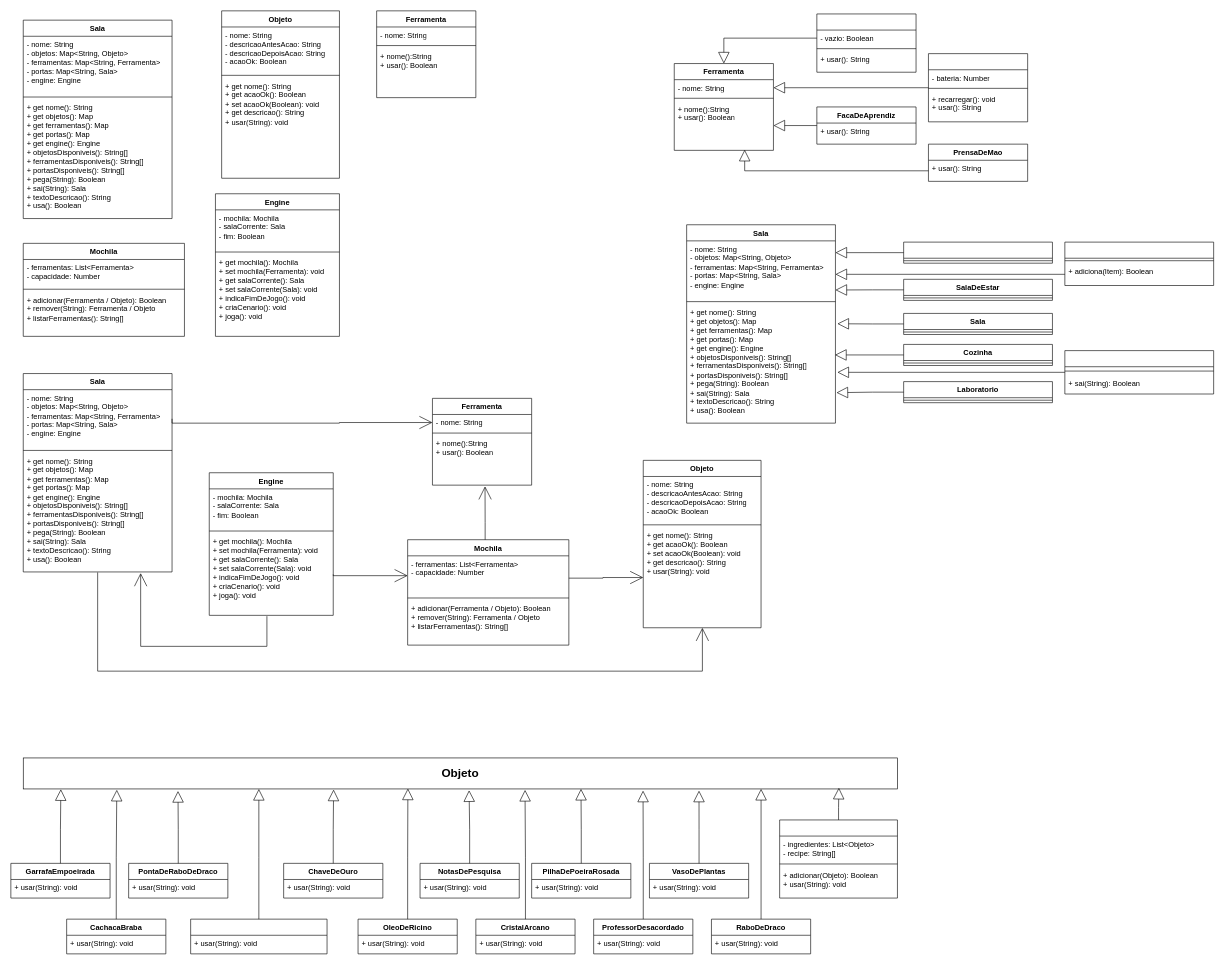
Image size: 1225x967. Some labels were removed from this diagram. Each missing label, with the box of its shape:
Biblioteca: (1064, 350, 1214, 394)
CaldeiraoAlquimico: (779, 819, 897, 898)
FrascoDeVidroEscuro: (816, 13, 916, 72)
HallDeEntrada: (903, 241, 1052, 263)
LupaRevelacaoArcana: (928, 53, 1028, 122)
SalaDoAltarAlquimico: (1064, 241, 1214, 286)
SalRosaDasMontanhasNevadas: (190, 919, 327, 954)
